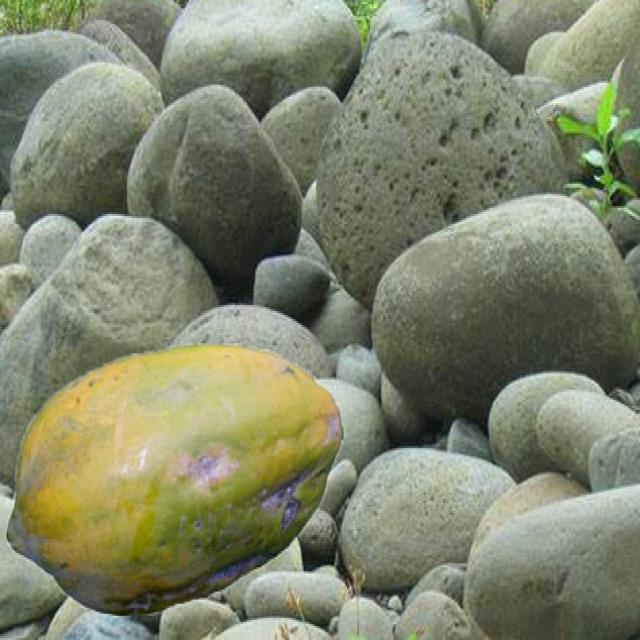Pepaya rippen: (7, 329, 347, 608)
